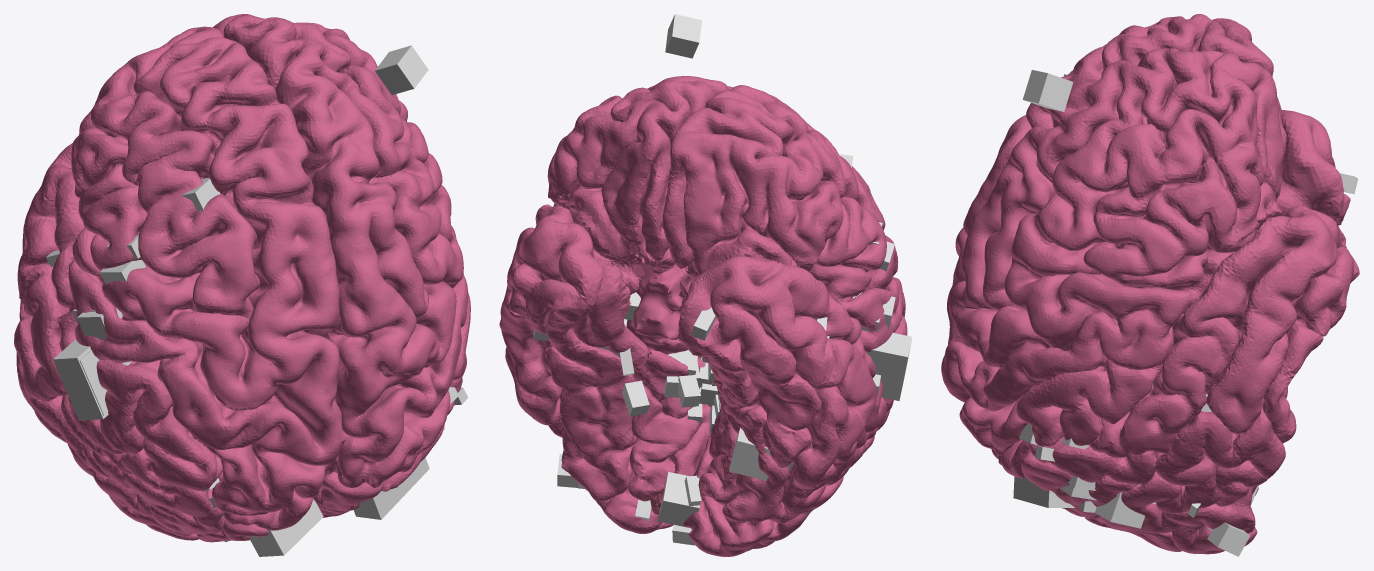
The model's file is non_hra_mapping.glb.
The picture shows the model from 3 angles, left to right: view 1: azimuth 30°, elevation 25°; view 2: azimuth 150°, elevation 25°; view 3: azimuth 270°, elevation 25°; orthographic projection. The views are drawn at different scales.
Visible parts, largest first — view 1: world; view 2: world; view 3: world.
Part boxes in pixels (x1,y1,x2,y2): world: (14,14,470,556); world: (499,14,912,556); world: (941,14,1359,556).
Bounding box in the file's own units: 150 × 184 × 137.
